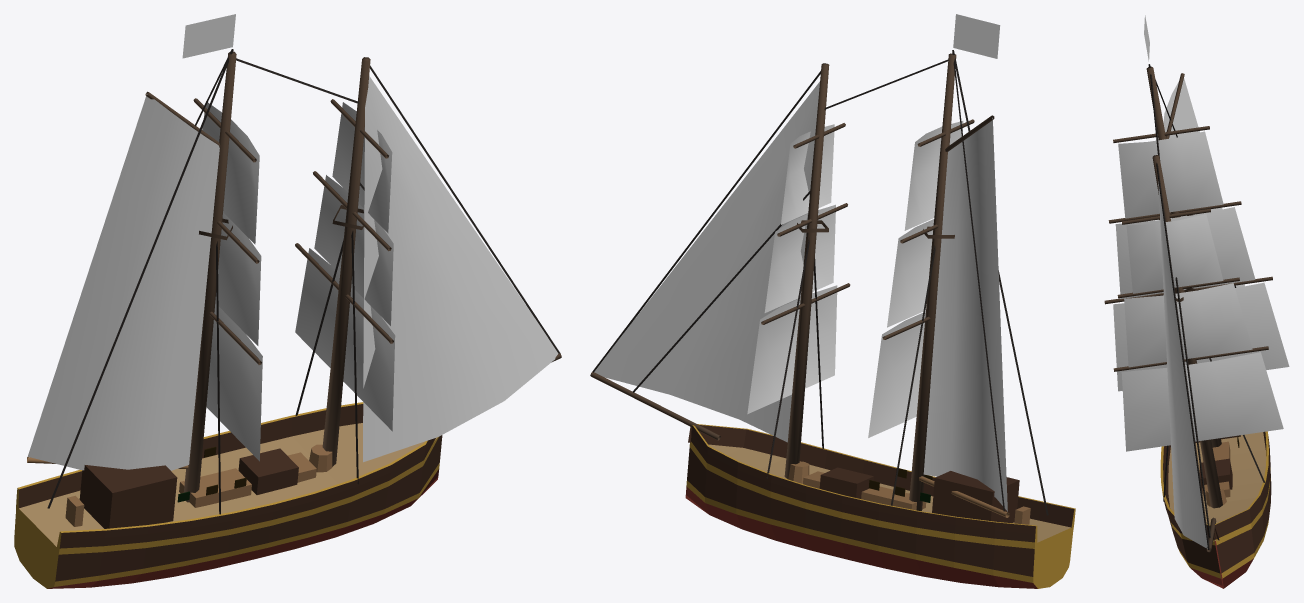
The model's file is hull_brig_large_sailing.glb.
3 renders of one model, left to right at view 1: azimuth 30°, elevation 25°; view 2: azimuth 150°, elevation 25°; view 3: azimuth 270°, elevation 25°, orthographic. The views are drawn at different scales.
Visible parts, largest first — view 1: hull_brig_large_sailing_sail_main.001, hull_brig_large_sailing_sail_jib, hull_brig_large_sailing_hull, hull_brig_large_sailing_mast, hull_brig_large_sailing_deck, hull_brig_large_sailing_sail_0, hull_brig_large_sailing_sail_main, hull_brig_large_sailing_rigging, hull_brig_large_sailing_sail_1, hull_brig_large_sailing_sail_4, hull_brig_large_sailing_sail_5, hull_brig_large_sailing_deckgear (+2 smaller); view 2: hull_brig_large_sailing_hull, hull_brig_large_sailing_sail_jib, hull_brig_large_sailing_sail_main.001, hull_brig_large_sailing_mast, hull_brig_large_sailing_sail_0, hull_brig_large_sailing_rigging, hull_brig_large_sailing_sail_main, hull_brig_large_sailing_deck, hull_brig_large_sailing_sail_1, hull_brig_large_sailing_sail_4, hull_brig_large_sailing_sail_5, hull_brig_large_sailing_sail_2 (+2 smaller); view 3: hull_brig_large_sailing_sail_0, hull_brig_large_sailing_hull, hull_brig_large_sailing_sail_1, hull_brig_large_sailing_sail_5, hull_brig_large_sailing_sail_jib, hull_brig_large_sailing_sail_2, hull_brig_large_sailing_mast, hull_brig_large_sailing_sail_main, hull_brig_large_sailing_sail_4, hull_brig_large_sailing_rigging, hull_brig_large_sailing_sail_main.001, hull_brig_large_sailing_deckgear (+1 smaller).
Boxes of the visible parts, box(x1,y1,x2,y2) form: hull_brig_large_sailing_sail_main.001: box(27, 94, 219, 470); hull_brig_large_sailing_sail_jib: box(363, 76, 558, 462); hull_brig_large_sailing_hull: box(14, 402, 442, 588); hull_brig_large_sailing_mast: box(145, 51, 561, 502); hull_brig_large_sailing_deck: box(79, 448, 298, 528); hull_brig_large_sailing_sail_0: box(295, 248, 395, 431); hull_brig_large_sailing_sail_main: box(206, 303, 262, 461); hull_brig_large_sailing_rigging: box(47, 49, 560, 514); hull_brig_large_sailing_sail_1: box(314, 175, 393, 325); hull_brig_large_sailing_sail_4: box(215, 212, 261, 345); hull_brig_large_sailing_sail_5: box(202, 102, 259, 244); hull_brig_large_sailing_deckgear: box(65, 444, 332, 526); hull_brig_large_sailing_hull: box(685, 424, 1075, 588); hull_brig_large_sailing_sail_jib: box(594, 81, 819, 442); hull_brig_large_sailing_sail_main.001: box(923, 117, 1007, 511); hull_brig_large_sailing_mast: box(590, 53, 994, 510); hull_brig_large_sailing_sail_0: box(747, 285, 837, 414); hull_brig_large_sailing_rigging: box(592, 50, 1048, 515); hull_brig_large_sailing_sail_main: box(868, 311, 925, 437); hull_brig_large_sailing_deck: box(819, 467, 1019, 523); hull_brig_large_sailing_sail_1: box(764, 204, 835, 312); hull_brig_large_sailing_sail_4: box(887, 219, 933, 327); hull_brig_large_sailing_sail_5: box(904, 121, 963, 230); hull_brig_large_sailing_sail_2: box(781, 124, 834, 224); hull_brig_large_sailing_sail_0: box(1121, 352, 1283, 451); hull_brig_large_sailing_hull: box(1160, 431, 1271, 588); hull_brig_large_sailing_sail_1: box(1124, 283, 1252, 367); hull_brig_large_sailing_sail_5: box(1118, 131, 1223, 218); hull_brig_large_sailing_sail_jib: box(1158, 181, 1207, 548); hull_brig_large_sailing_sail_2: box(1126, 214, 1223, 293); hull_brig_large_sailing_mast: box(1104, 66, 1272, 552); hull_brig_large_sailing_sail_main: box(1113, 282, 1289, 391); hull_brig_large_sailing_sail_4: box(1115, 207, 1255, 298); hull_brig_large_sailing_rigging: box(1148, 64, 1266, 549); hull_brig_large_sailing_sail_main.001: box(1163, 78, 1244, 287); hull_brig_large_sailing_deckgear: box(1202, 441, 1230, 506).
Bounding box in the file's own units: 23.08 × 24.73 × 8.8.
